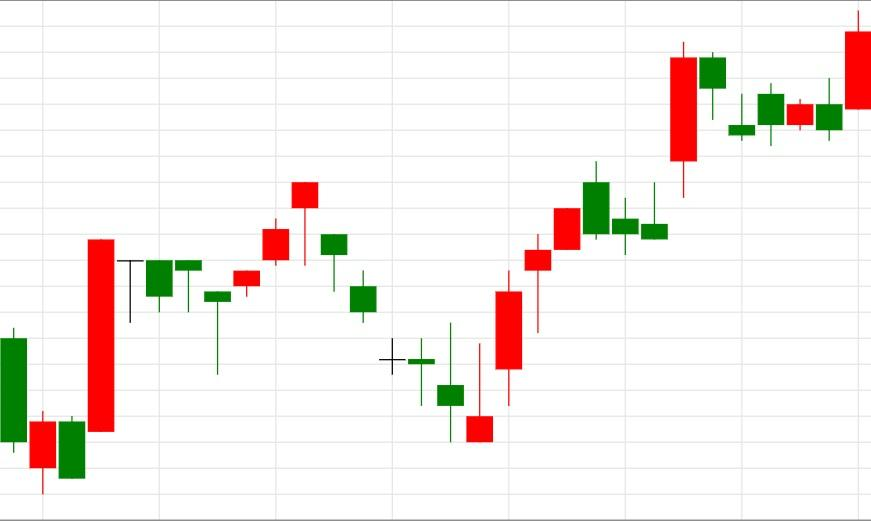hanging_man_fall: (203, 181, 319, 375)
inverse_hammer_rise: (291, 181, 493, 443)
